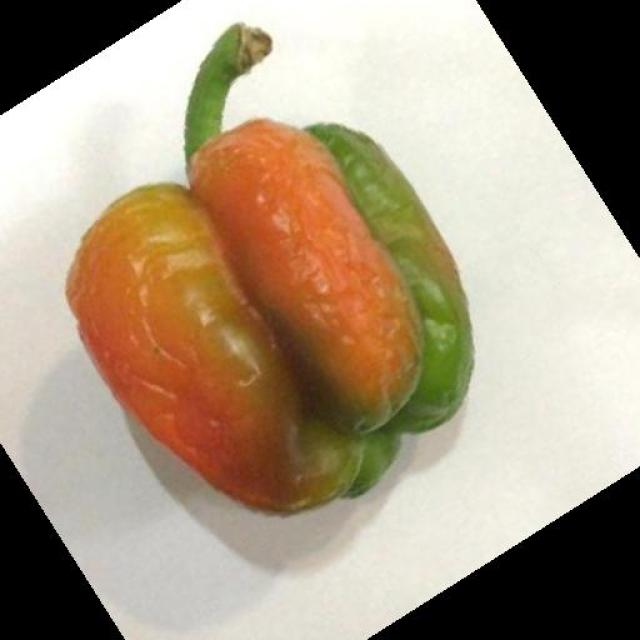Stale_Capsicum: (71, 122, 462, 473)
